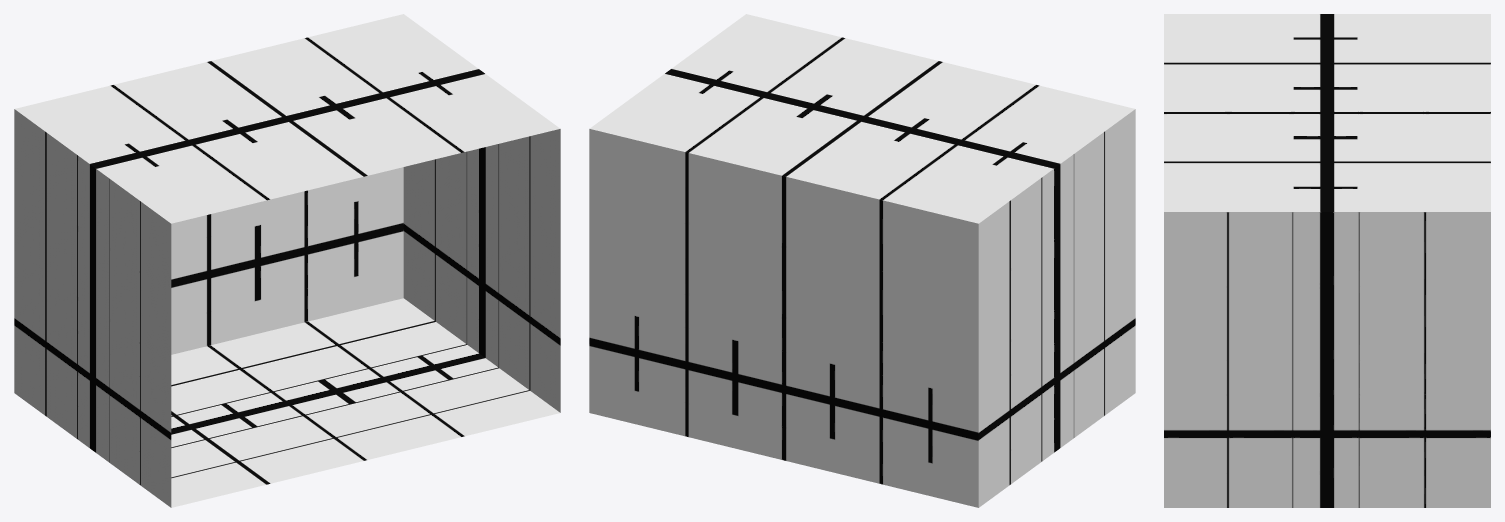
The model's file is ChaosZooTrainingMap.fbx.
3 renders of one model, left to right at view 1: azimuth 30°, elevation 25°; view 2: azimuth 150°, elevation 25°; view 3: azimuth 270°, elevation 25°, orthographic. The views are drawn at different scales.
Visible parts, largest first — view 1: pCube1; view 2: pCube1; view 3: pCube1.
Boxes of the visible parts, x1=… form: pCube1: x1=14, y1=14, x2=560, y2=507; pCube1: x1=589, y1=14, x2=1135, y2=507; pCube1: x1=1164, y1=14, x2=1490, y2=507.
Bounding box in the file's own units: 75.27 × 52.52 × 52.52.
